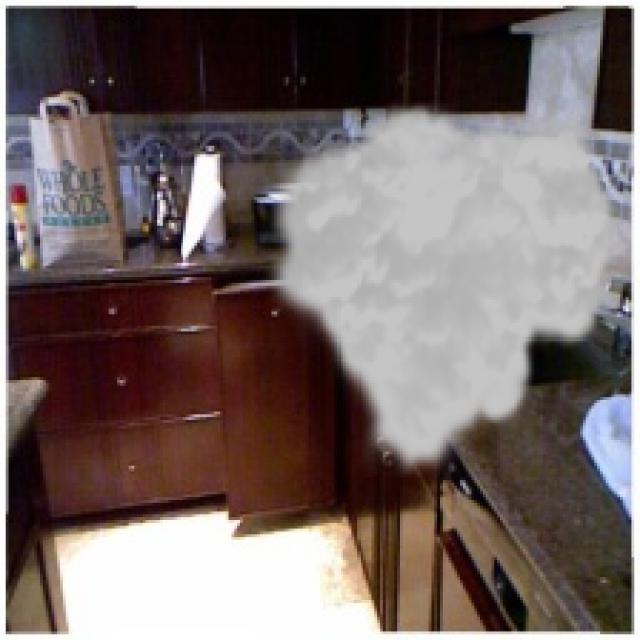smoke: (260, 100, 623, 480)
